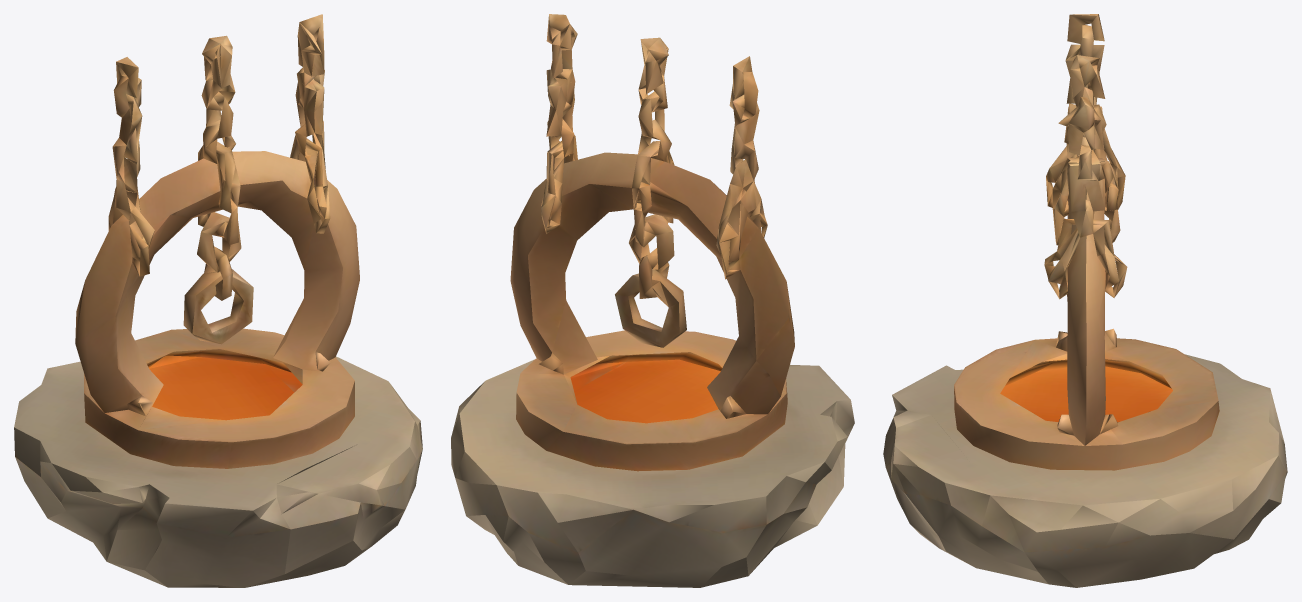
File: m2SwingAnchorV2.glb
3 renders of one model, left to right at view 1: azimuth 30°, elevation 25°; view 2: azimuth 150°, elevation 25°; view 3: azimuth 270°, elevation 25°, orthographic. The views are drawn at different scales.
Visible parts, largest first — view 1: model; view 2: model; view 3: model.
Part boxes in pixels (x1,y1,x2,y2): model: (14, 14, 422, 587); model: (451, 14, 854, 587); model: (883, 14, 1287, 587).
Size of the model in its own units: 1.44 by 1.89 by 1.5.
Materials: 1 (1 with a texture image).
